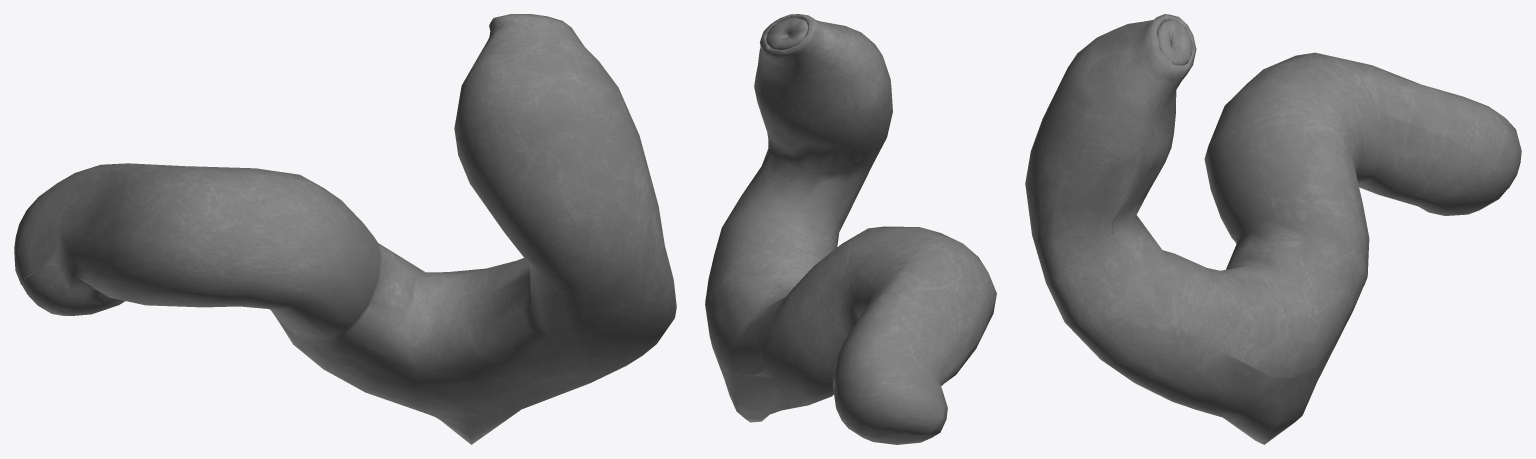
File: kujira2.glb
3 views of the same model, side by side, from view 1: azimuth 30°, elevation 25°; view 2: azimuth 150°, elevation 25°; view 3: azimuth 270°, elevation 25° (orthographic). The views are drawn at different scales.
Parts seen in each view (by area): view 1: BezierCurve.003_BezierCurve.008; view 2: BezierCurve.003_BezierCurve.008; view 3: BezierCurve.003_BezierCurve.008.
Boxes of the visible parts, x1,y1,x2,y2 form: BezierCurve.003_BezierCurve.008: (14,14,676,444); BezierCurve.003_BezierCurve.008: (705,14,996,444); BezierCurve.003_BezierCurve.008: (1025,14,1521,444).
Size of the model in its own units: 2.35 by 2.34 by 2.5.
Materials: 1 (1 with a texture image).
